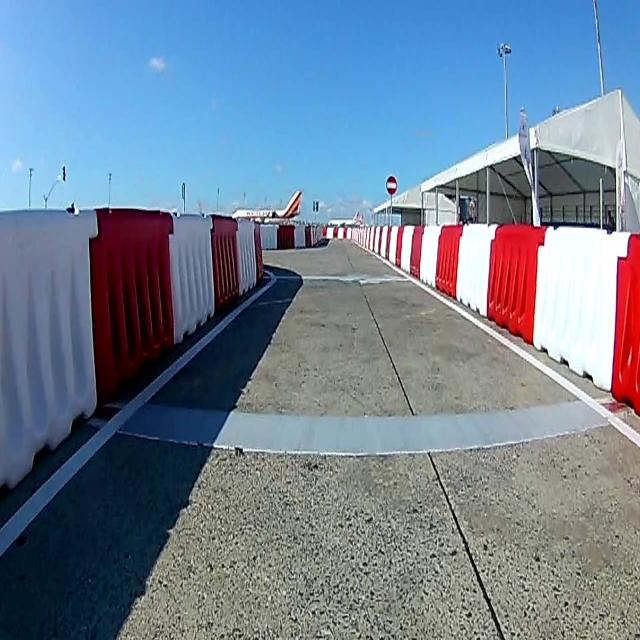girisyok: (386, 176, 398, 196)
